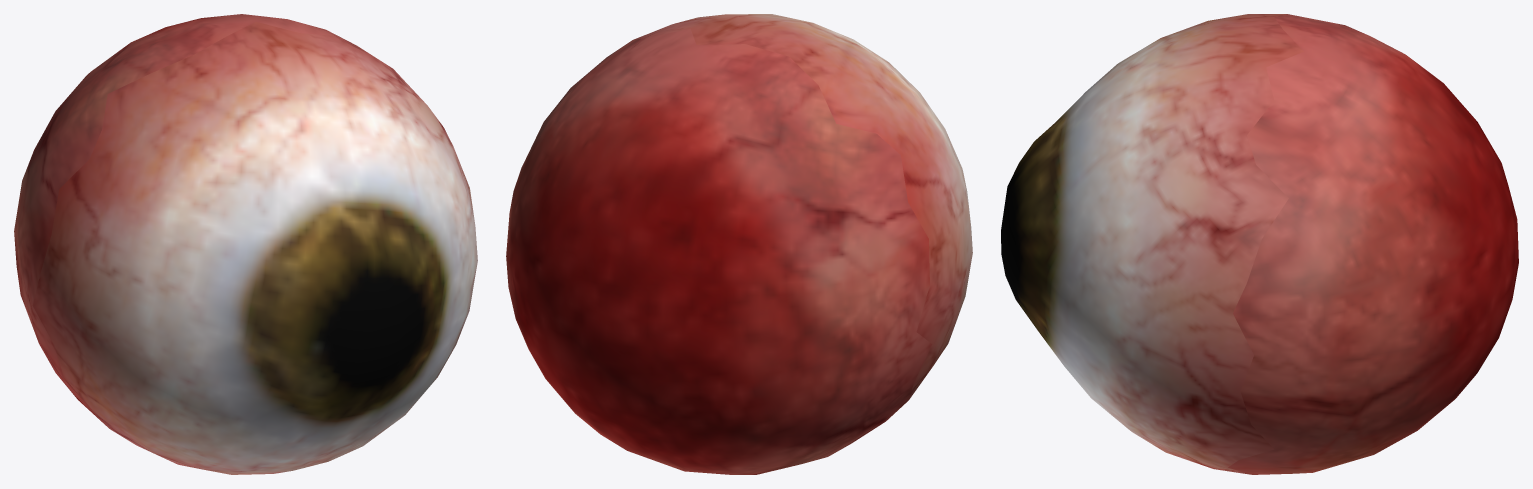
Rendered from eye.fbx.
The picture shows the model from 3 angles, left to right: view 1: azimuth 30°, elevation 25°; view 2: azimuth 150°, elevation 25°; view 3: azimuth 270°, elevation 25°; orthographic projection.
Parts seen in each view (by area): view 1: Eyes; view 2: Eyes; view 3: Eyes.
Boxes of the visible parts, x1=… form: Eyes: x1=14, y1=14, x2=477, y2=474; Eyes: x1=506, y1=14, x2=972, y2=474; Eyes: x1=1001, y1=14, x2=1518, y2=474.
Bounding box in the file's own units: 3408 × 3835 × 3417.
